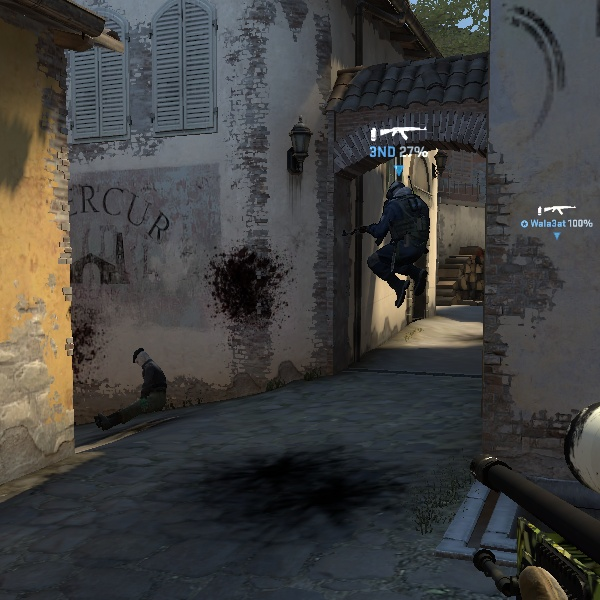ct_body: (361, 173, 440, 316)
